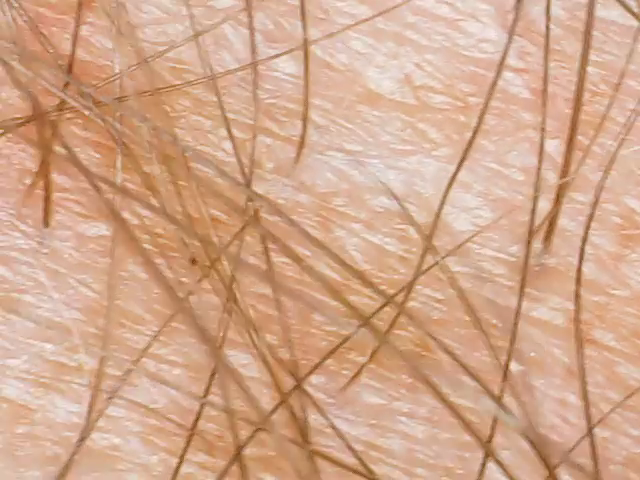folicle: (531, 235, 558, 268), (8, 191, 37, 219), (328, 378, 355, 404), (32, 216, 60, 240), (285, 149, 304, 173)
